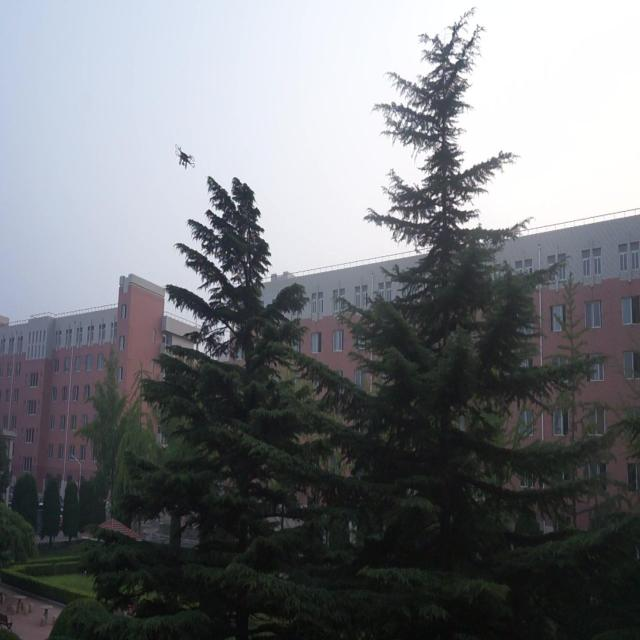drone: (173, 141, 195, 173)
